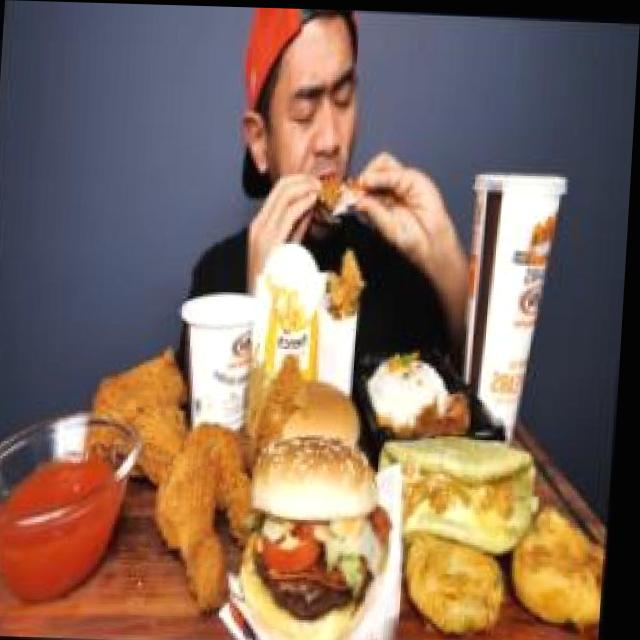AW cola: (450, 149, 572, 441)
black pepper rice bowl: (363, 327, 473, 449)
cheese burger: (264, 380, 371, 465)
chicken waffle: (317, 255, 376, 344)
crispy corn: (175, 282, 267, 442)
french fries: (259, 274, 318, 349)
fried chicken: (76, 325, 275, 633), (252, 339, 317, 461), (300, 162, 381, 234)
mango chicken pocket: (370, 422, 554, 559)
mozza burger: (235, 433, 405, 640)
perkedel: (516, 488, 616, 640), (401, 515, 519, 640)
